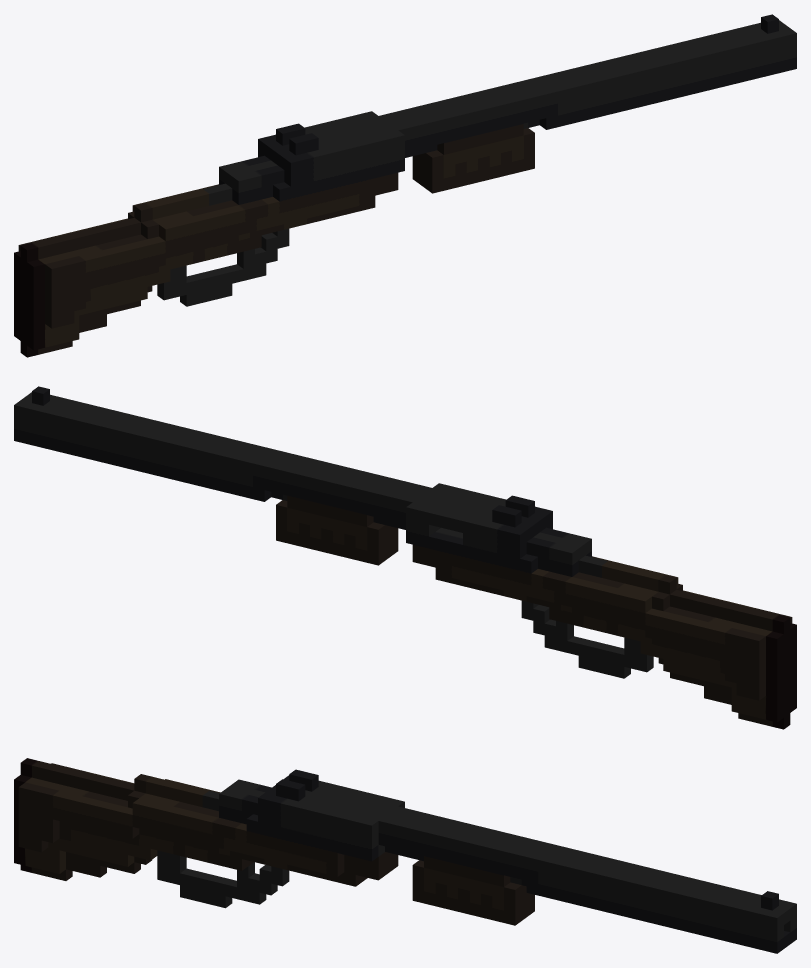
The model's file is shotgun2.obj.
3 renders of one model, top to bottom at view 1: azimuth 30°, elevation 25°; view 2: azimuth 150°, elevation 25°; view 3: azimuth 330°, elevation 25°, orthographic.
Parts seen in each view (by area): view 1: shotgun2-flat; view 2: shotgun2-flat; view 3: shotgun2-flat.
Part boxes in pixels (x1,y1,x2,y2): shotgun2-flat: (14,14,796,357); shotgun2-flat: (14,386,796,729); shotgun2-flat: (14,758,796,953).
Bounding box in the file's own units: 111 × 21.51 × 8.27.
Materials: 1 (1 with a texture image).
